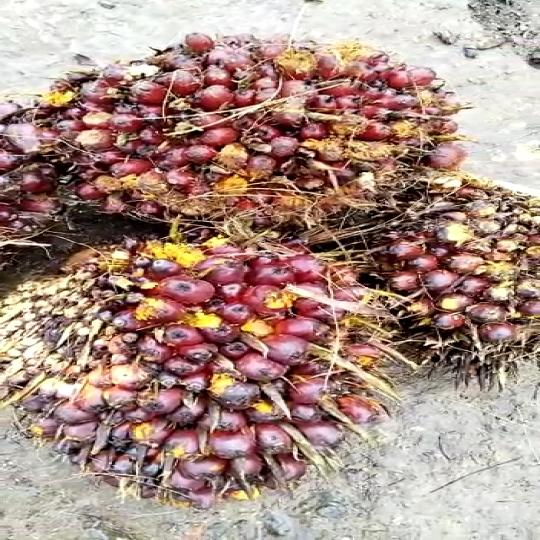masak: (13, 220, 411, 509), (26, 22, 480, 237), (345, 174, 540, 379)
